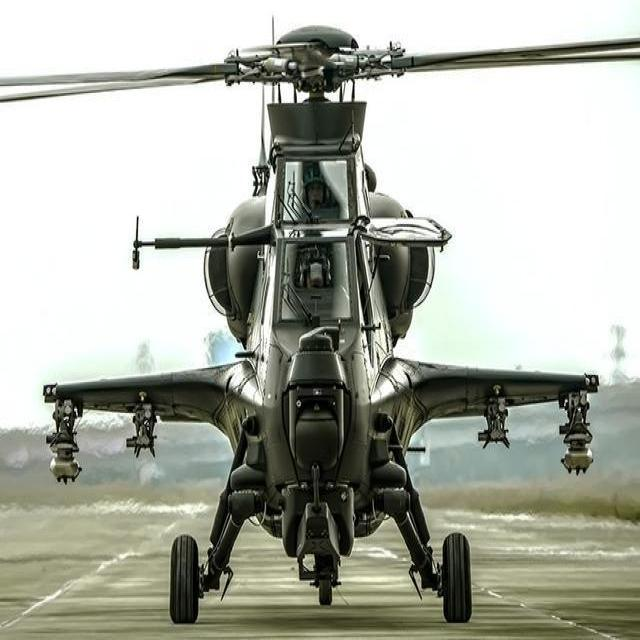MIL_HELO: (7, 22, 640, 617)
